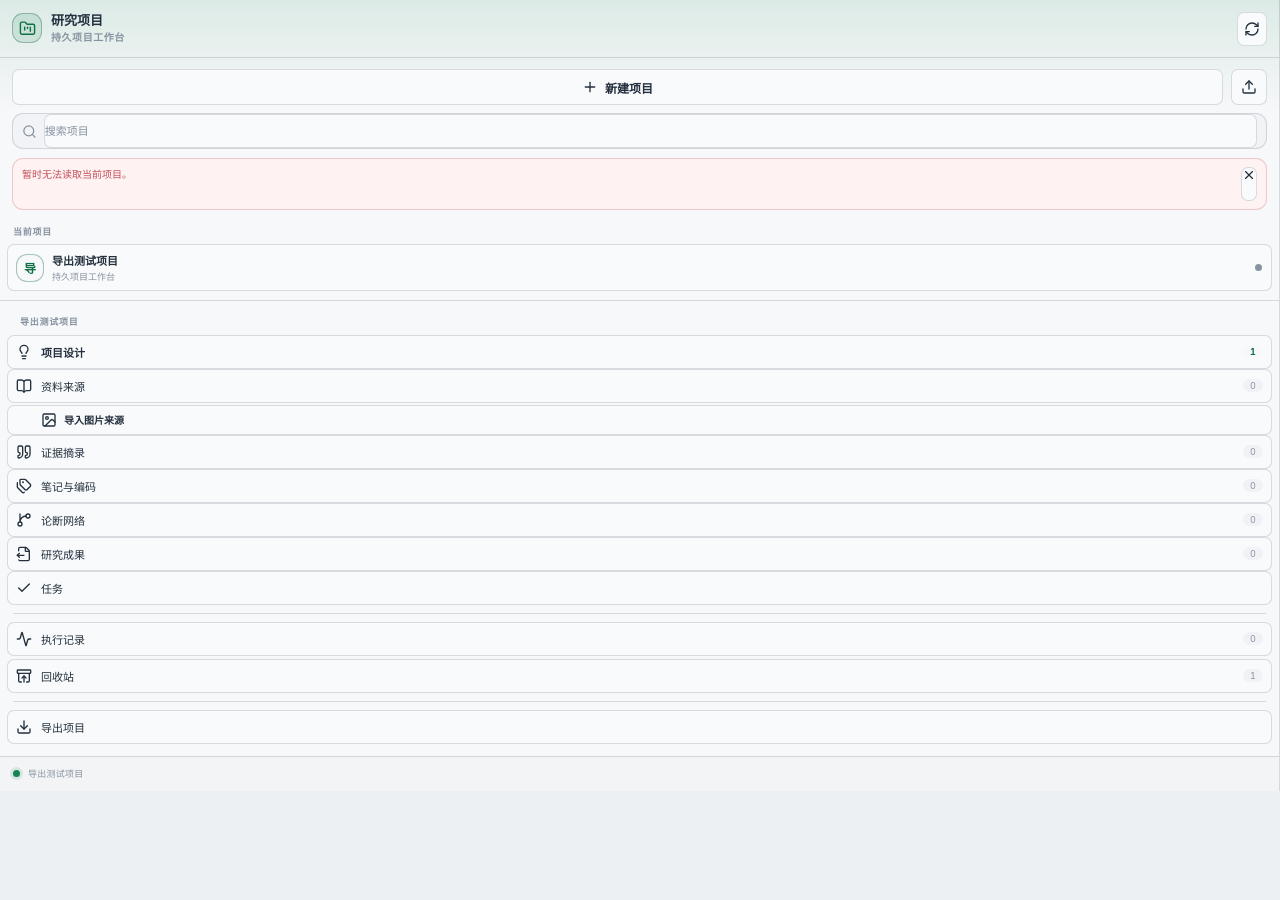
ProjectWorkspaceSidebar export › surfaces an export failure
The width and height of the screenshot is (1280, 900).
Click the button with test id "sidebar-export-project": (63, 728) [7,710,1272,744]
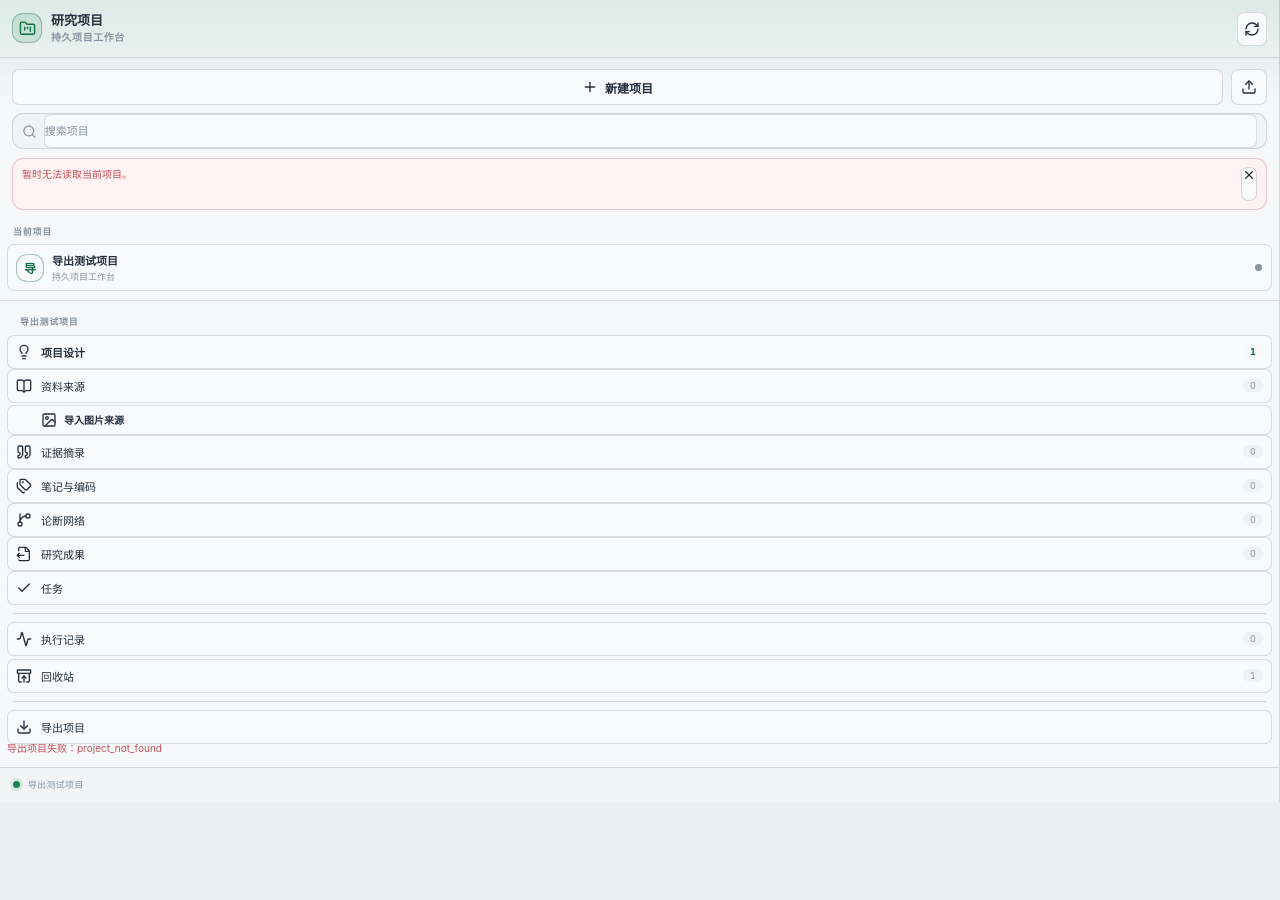
expect the text "导出项目失败：project_not_found" is shown: met, box [7,742,162,754]
